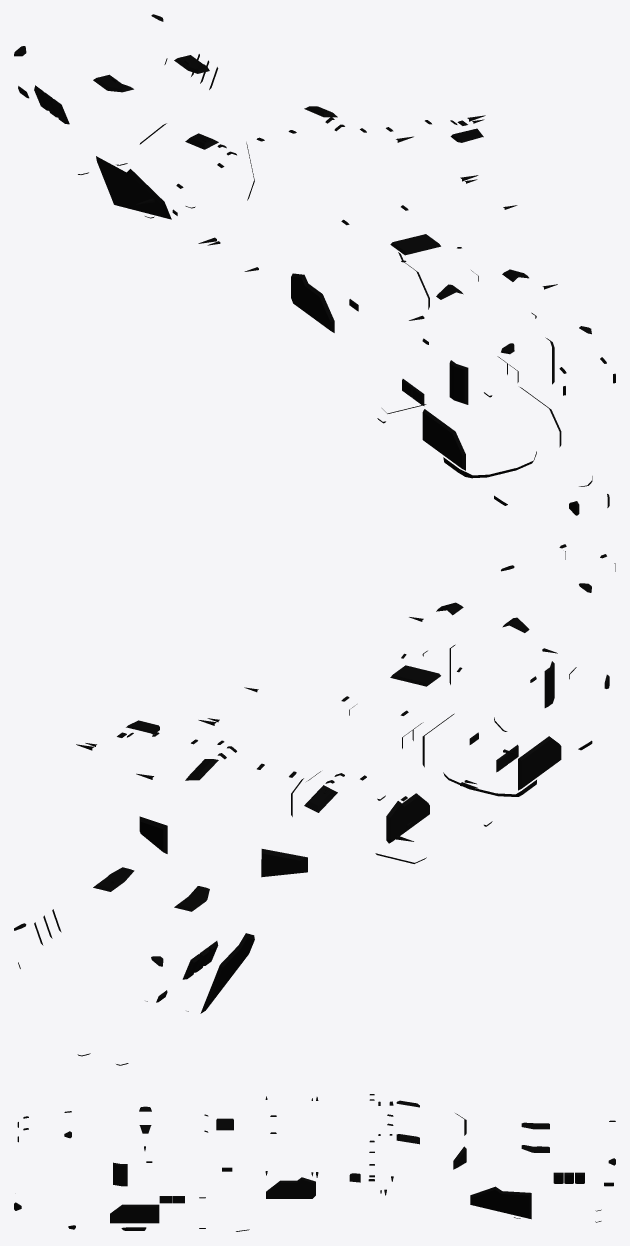
File: hgn_destroyer_01_t5.glb
3 renders of one model, top to bottom at view 1: azimuth 30°, elevation 25°; view 2: azimuth 150°, elevation 25°; view 3: azimuth 270°, elevation 25°, orthographic. The views are drawn at different scales.
Visible parts, largest first — view 1: hgn_destroyer_01_t5_LOD0; view 2: hgn_destroyer_01_t5_LOD0; view 3: hgn_destroyer_01_t5_LOD0.
Boxes of the visible parts, x1=… form: hgn_destroyer_01_t5_LOD0: x1=14, y1=14, x2=615, y2=515; hgn_destroyer_01_t5_LOD0: x1=14, y1=544, x2=615, y2=1065; hgn_destroyer_01_t5_LOD0: x1=14, y1=1094, x2=615, y2=1231.
Size of what is drawn, in the model's own units: 3.58 by 1.85 by 9.12.
Materials: 1 (1 with a texture image).
